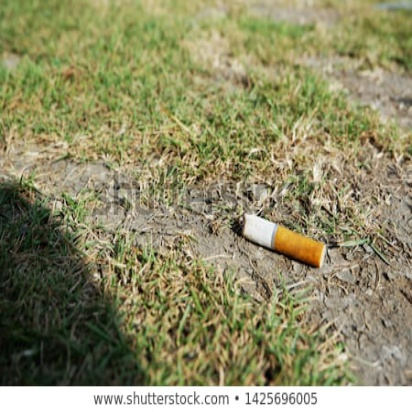cigarette: (227, 209, 334, 273)
